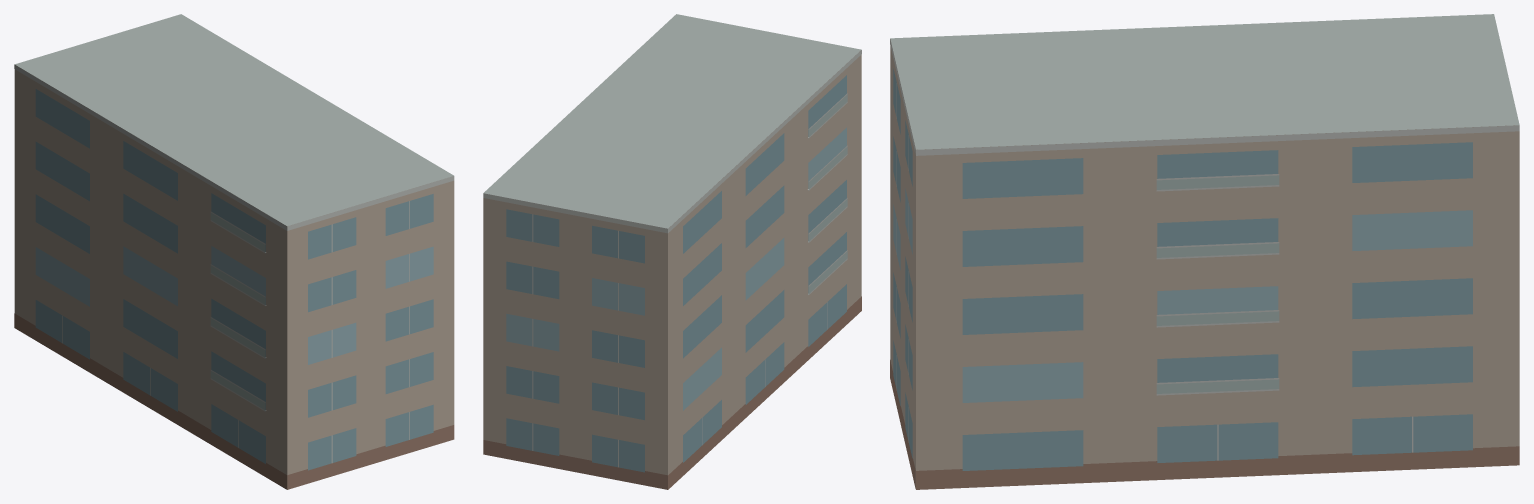
Rendered from survey-upis-32935122.glb.
3 views of the same model, side by side, from view 1: azimuth 30°, elevation 25°; view 2: azimuth 150°, elevation 25°; view 3: azimuth 270°, elevation 25° (orthographic). The views are drawn at different scales.
Parts seen in each view (by area): view 1: survey-upis-32935122.tmp; view 2: survey-upis-32935122.tmp; view 3: survey-upis-32935122.tmp.
Part boxes in pixels (bbox=[...]): survey-upis-32935122.tmp: bbox=[14, 14, 454, 489]; survey-upis-32935122.tmp: bbox=[483, 14, 861, 489]; survey-upis-32935122.tmp: bbox=[890, 14, 1519, 489].
Bounding box in the file's own units: 11.66 × 13.6 × 22.82.
